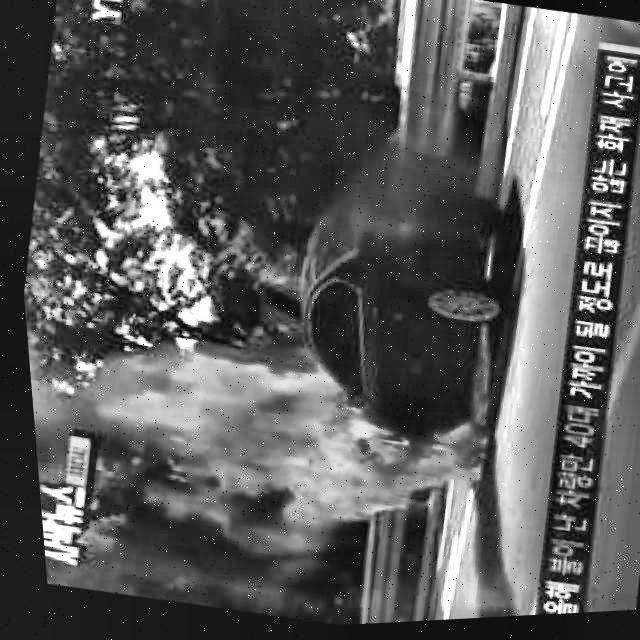Fire: (107, 341, 496, 570)
